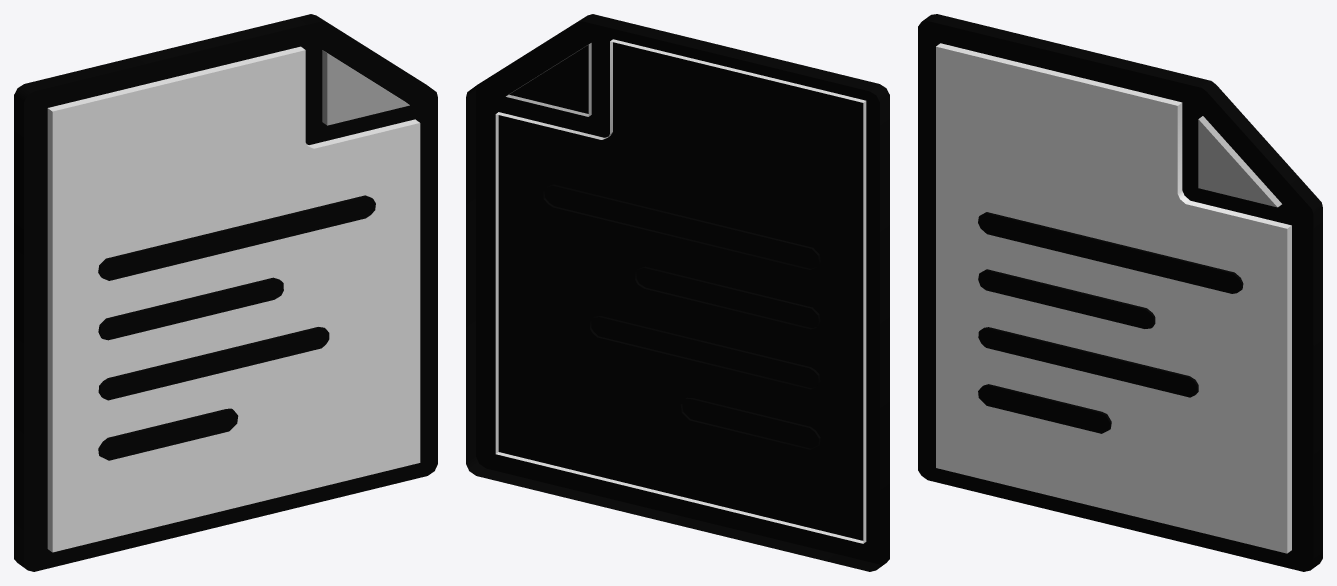
The model's file is free_format_3d.glb.
The picture shows the model from 3 angles, left to right: view 1: azimuth 30°, elevation 25°; view 2: azimuth 150°, elevation 25°; view 3: azimuth 330°, elevation 25°; orthographic projection. The views are drawn at different scales.
Visible parts, largest first — view 1: Line012; view 2: Line012; view 3: Line012.
Boxes of the visible parts, x1=… form: Line012: x1=14, y1=14, x2=437, y2=571; Line012: x1=466, y1=14, x2=889, y2=571; Line012: x1=918, y1=14, x2=1322, y2=571.
Size of the model in its own units: 0.0723 by 0.0802 by 0.00499.
Materials: 1 (1 with a texture image).
